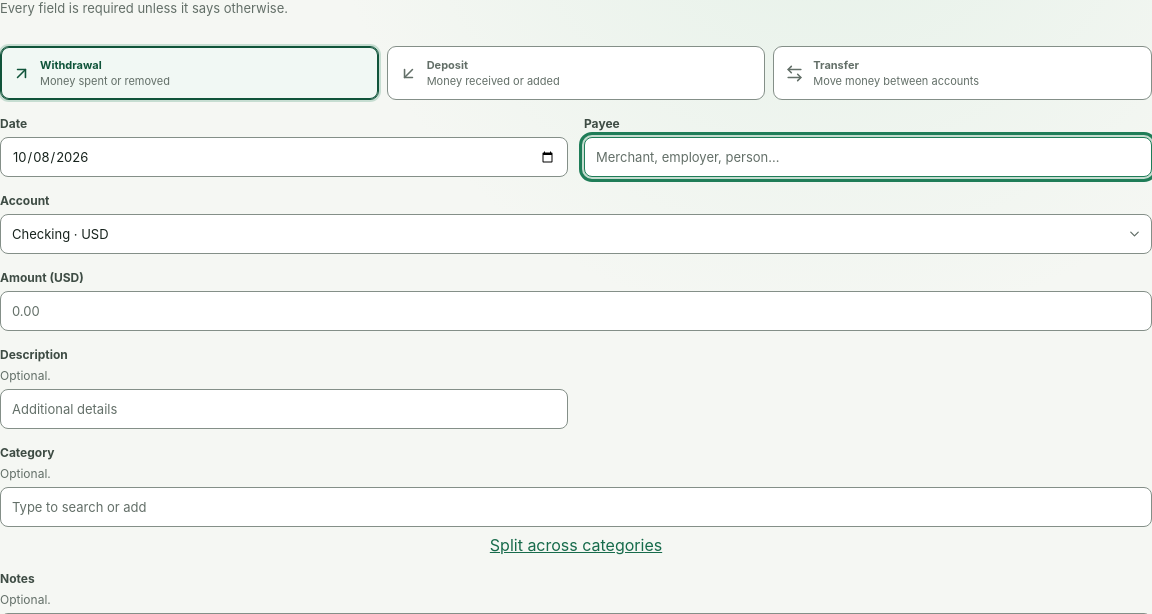
Test: splitting a transaction in the form › folds back to a single category when a split is cut down to one leg
Type "Food" into the field with placeholder "Type to search or add" at (576,507), box [0,487,1151,527]
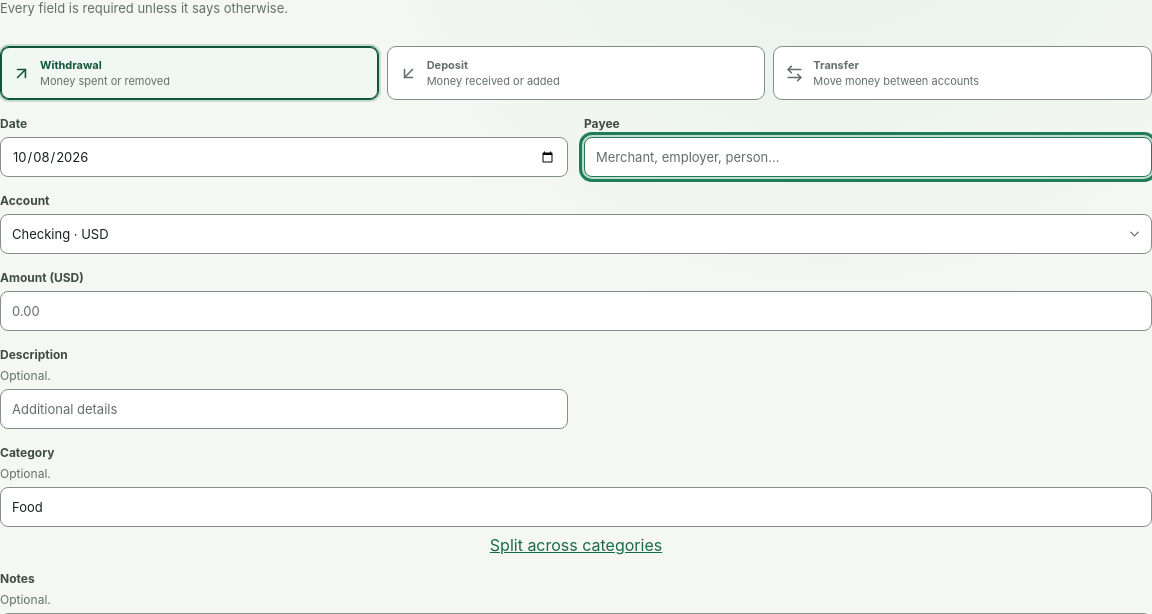
Type "100" into the field labelled "Amount (USD)" at (576,311), box [0,291,1151,331]
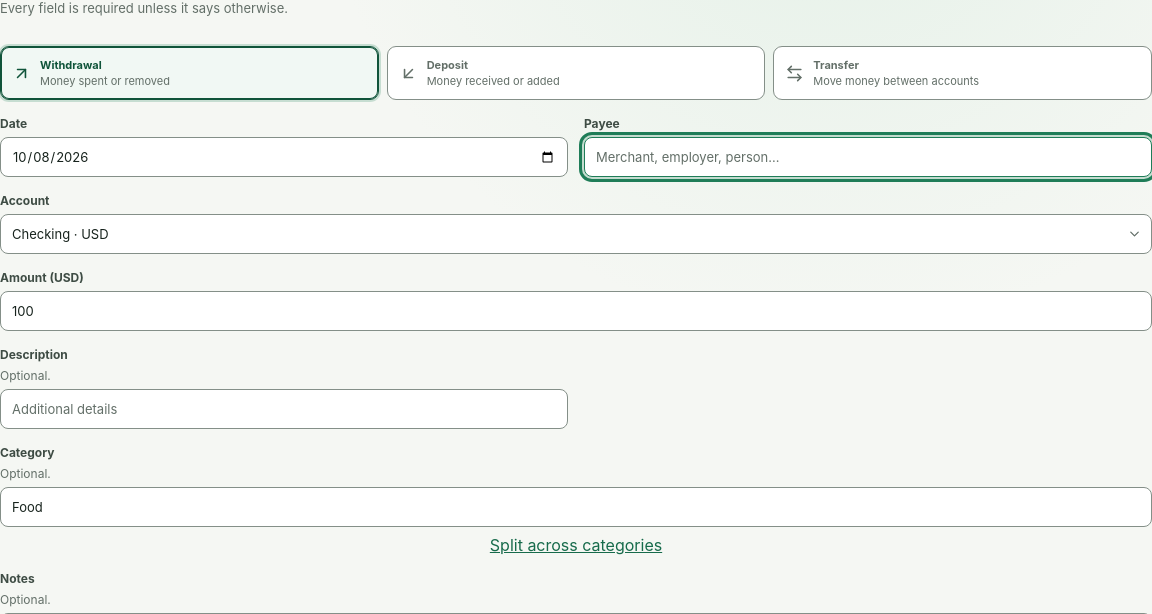
Click the button "Split across categories" at (576,545), box [0,535,1151,555]
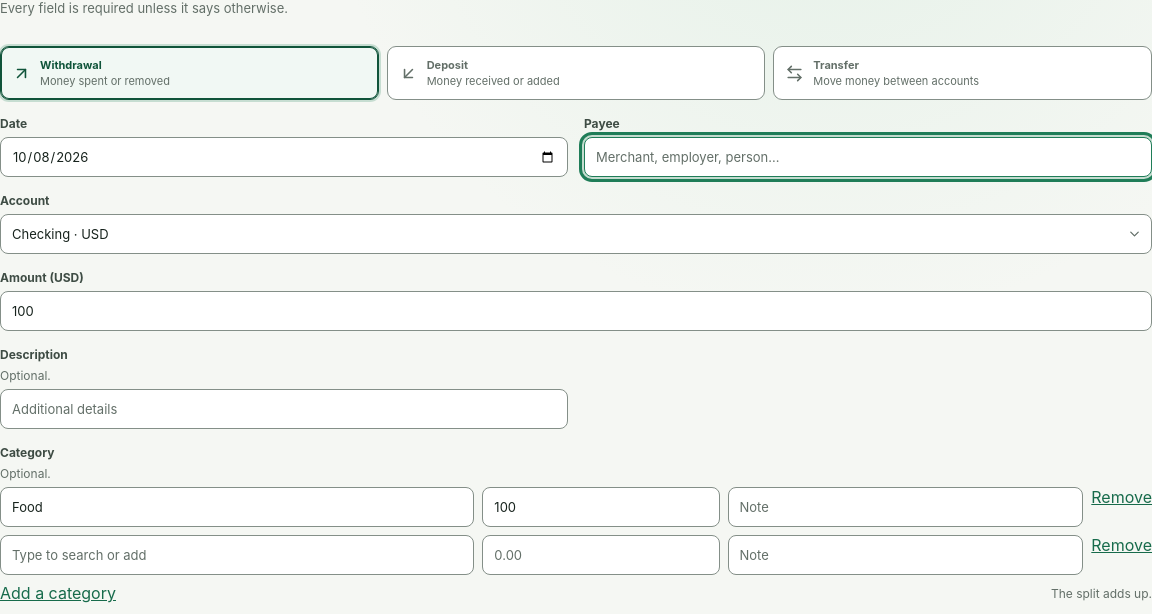
Click the button with aria-label "Remove category 2" at (1122,545), box [1091,535,1151,555]
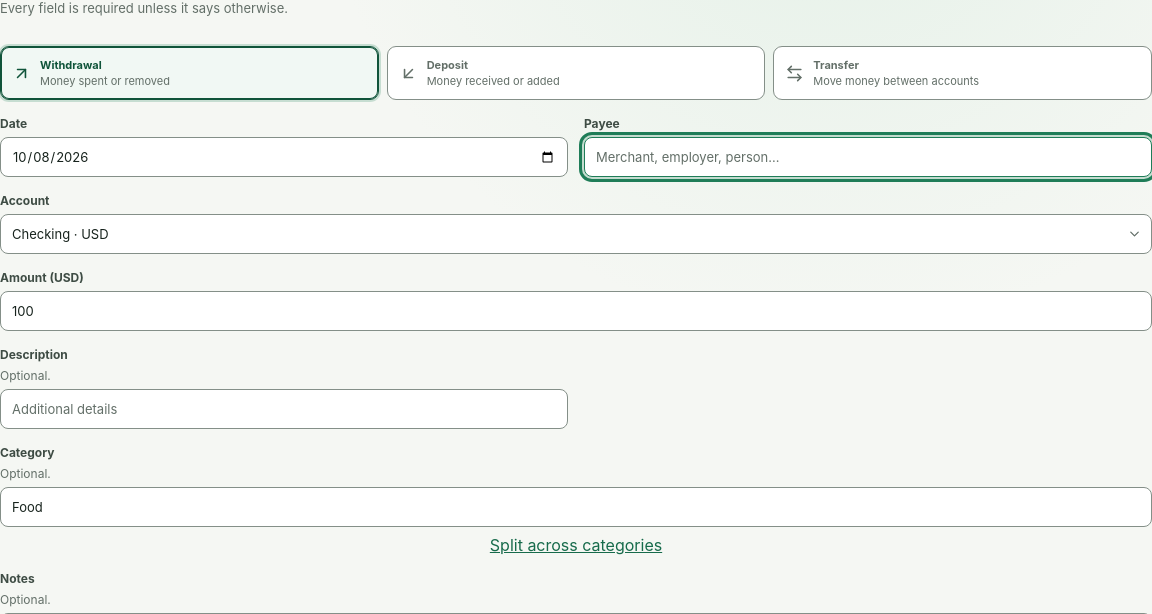
Expected: the field with placeholder "Type to search or add" holds "Food", [0,487,1151,527]
Expected: the button "Split across categories" is shown, [0,535,1151,555]
